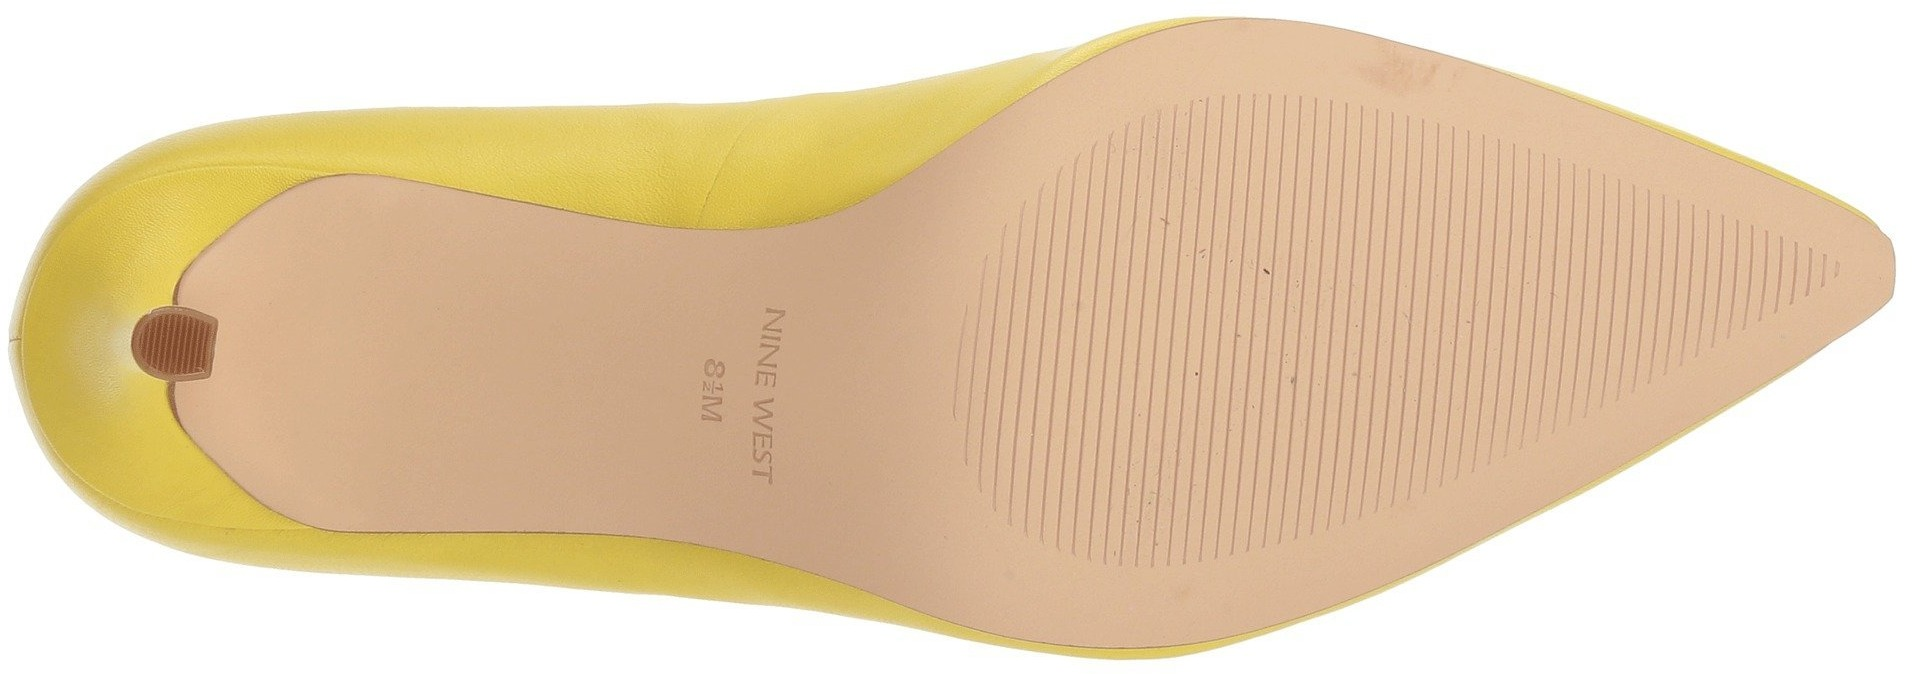other: (1249, 118, 1504, 374), (952, 289, 1197, 486), (1508, 184, 1703, 381), (1085, 150, 1234, 286), (1204, 381, 1343, 525), (1347, 389, 1449, 490), (155, 319, 210, 366)
